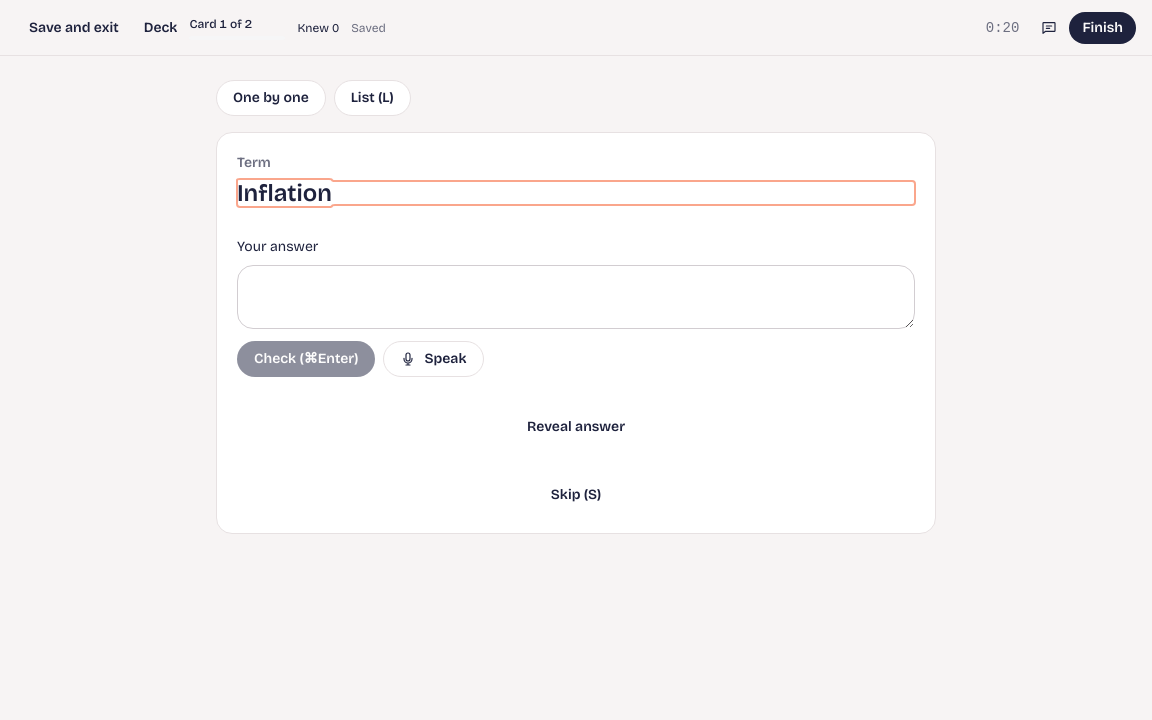
handles microphone error not-allowed while keeping typing available
Click the button "Speak". click: (433, 359)
box: [383,341,484,377]
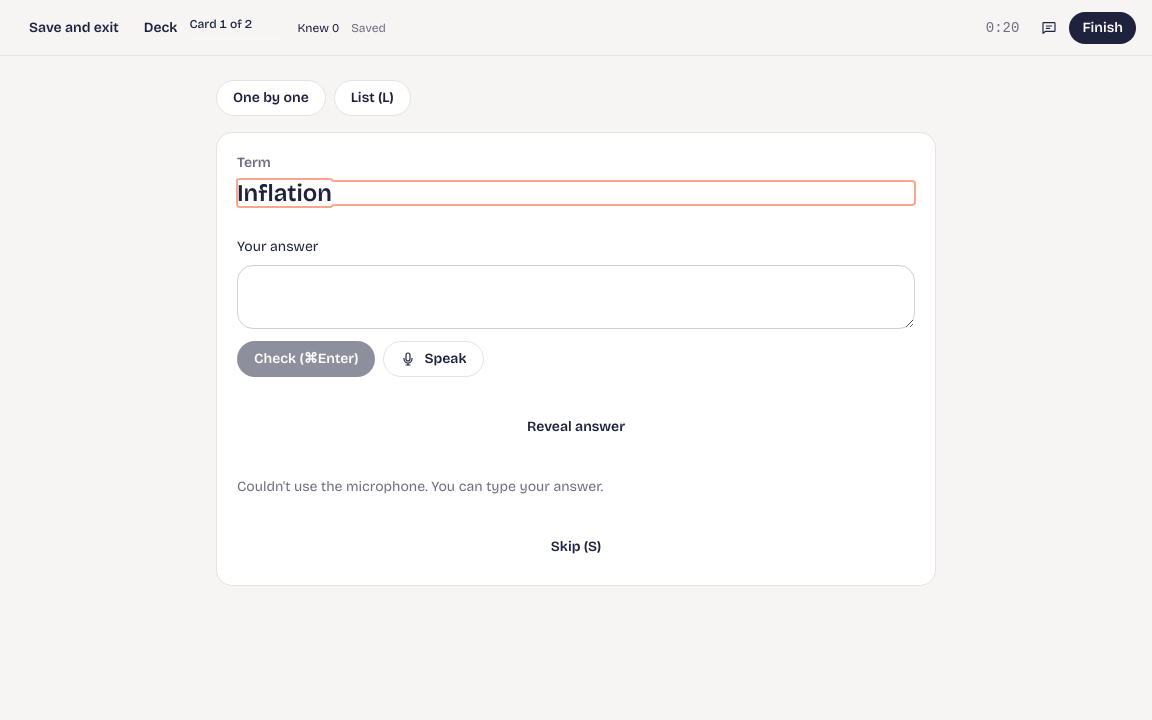
Expected: the text box is enabled, [237,265,915,329]
Result: the text "Couldn't use the microphone. You can type your answer." is shown at [237,478,603,495]
